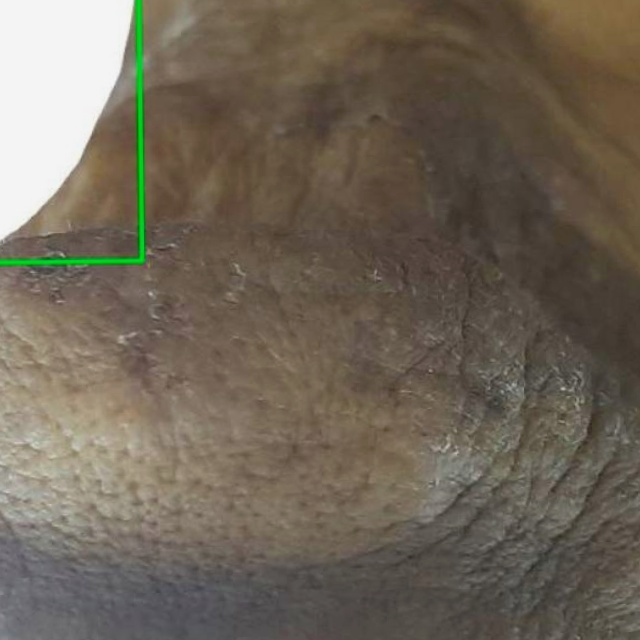Eczema: (0, 0, 142, 262)
